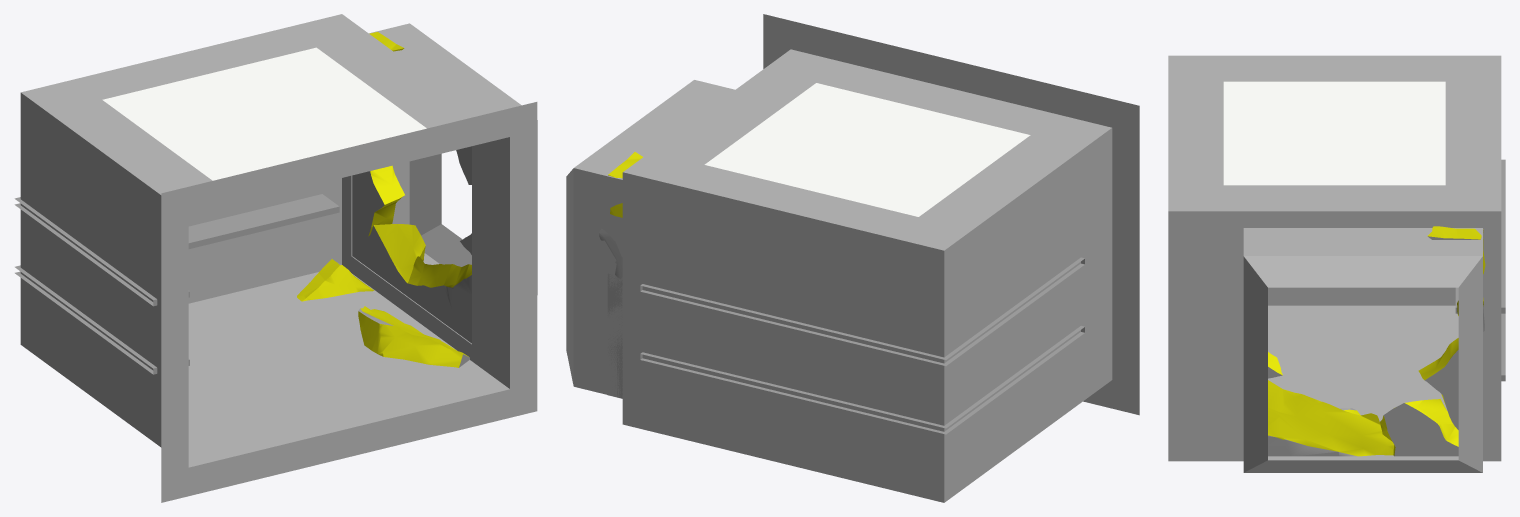
The model's file is konditoreiRoom.fbx.
3 views of the same model, side by side, from view 1: azimuth 30°, elevation 25°; view 2: azimuth 150°, elevation 25°; view 3: azimuth 270°, elevation 25° (orthographic).
Parts seen in each view (by area): view 1: konditorei; view 2: konditorei; view 3: konditorei.
Part boxes in pixels (box(x1,y1,x2,y2)): konditorei: box(14, 14, 537, 502); konditorei: box(566, 14, 1139, 502); konditorei: box(1168, 55, 1505, 472).
Size of the model in its own units: 531 by 368 by 367.
